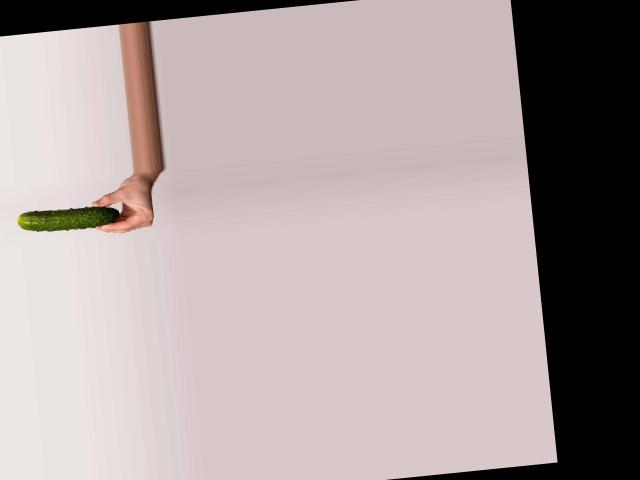cucumber: (17, 204, 120, 234)
